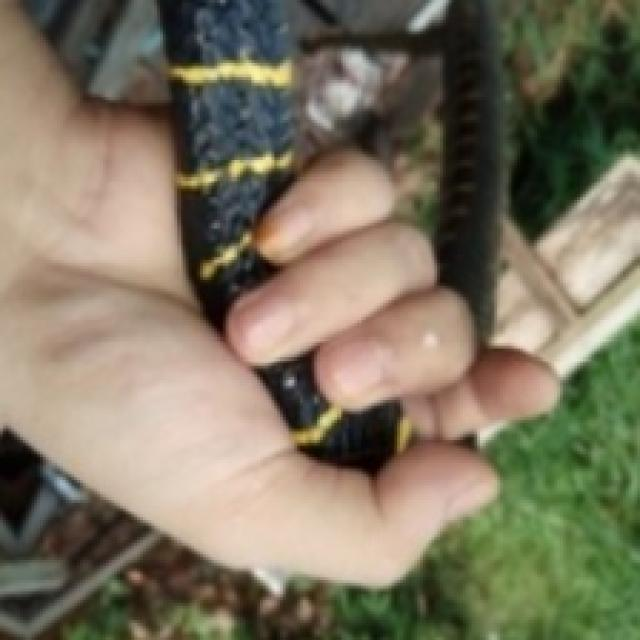mangrove cat snake: (160, 0, 417, 329), (426, 0, 497, 360), (257, 340, 411, 471)
